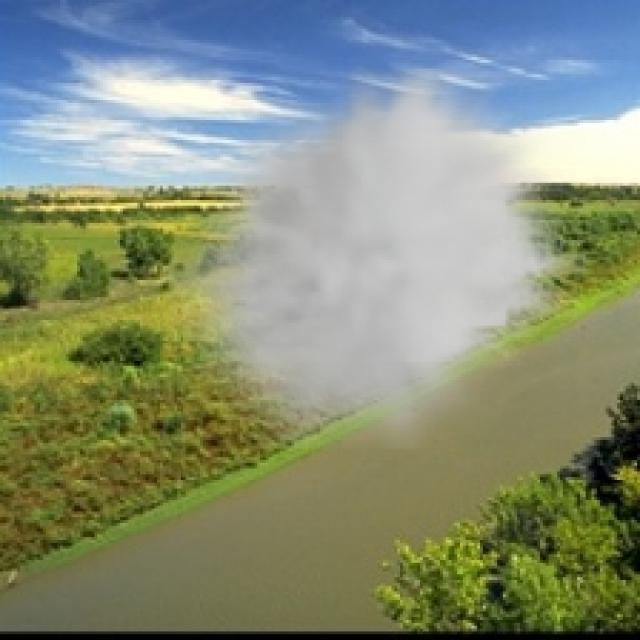smoke: (168, 69, 586, 448)
